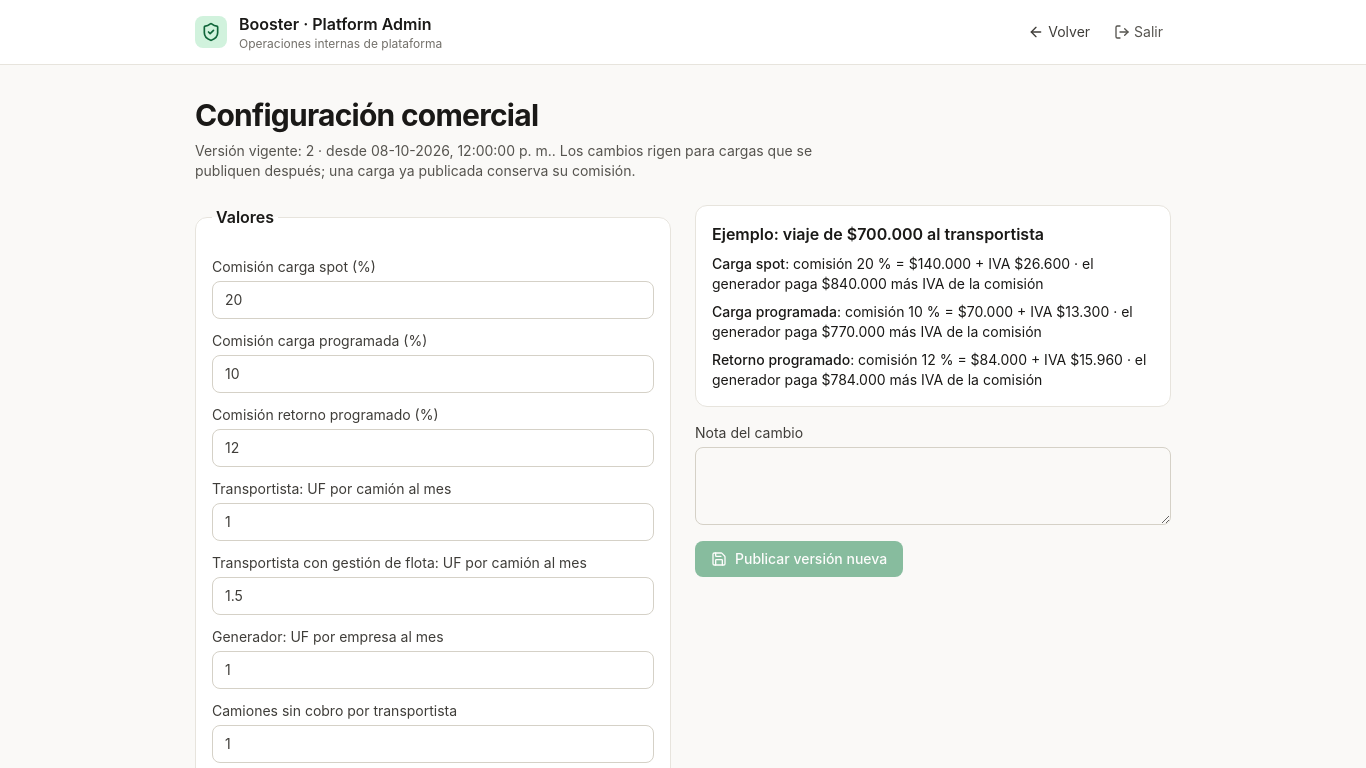
Test: PlatformAdminConfiguracionComercialRoute (ADR-079 §3) › sin nota no deja publicar; con nota publica y recarga
Expected: the button "Publicar versión nueva" is disabled, x1=695 y1=541 x2=903 y2=577
In the text box labelled "Nota del cambio": coordinates (933, 486) x1=695 y1=447 x2=1171 y2=525, type "ajuste de prueba"
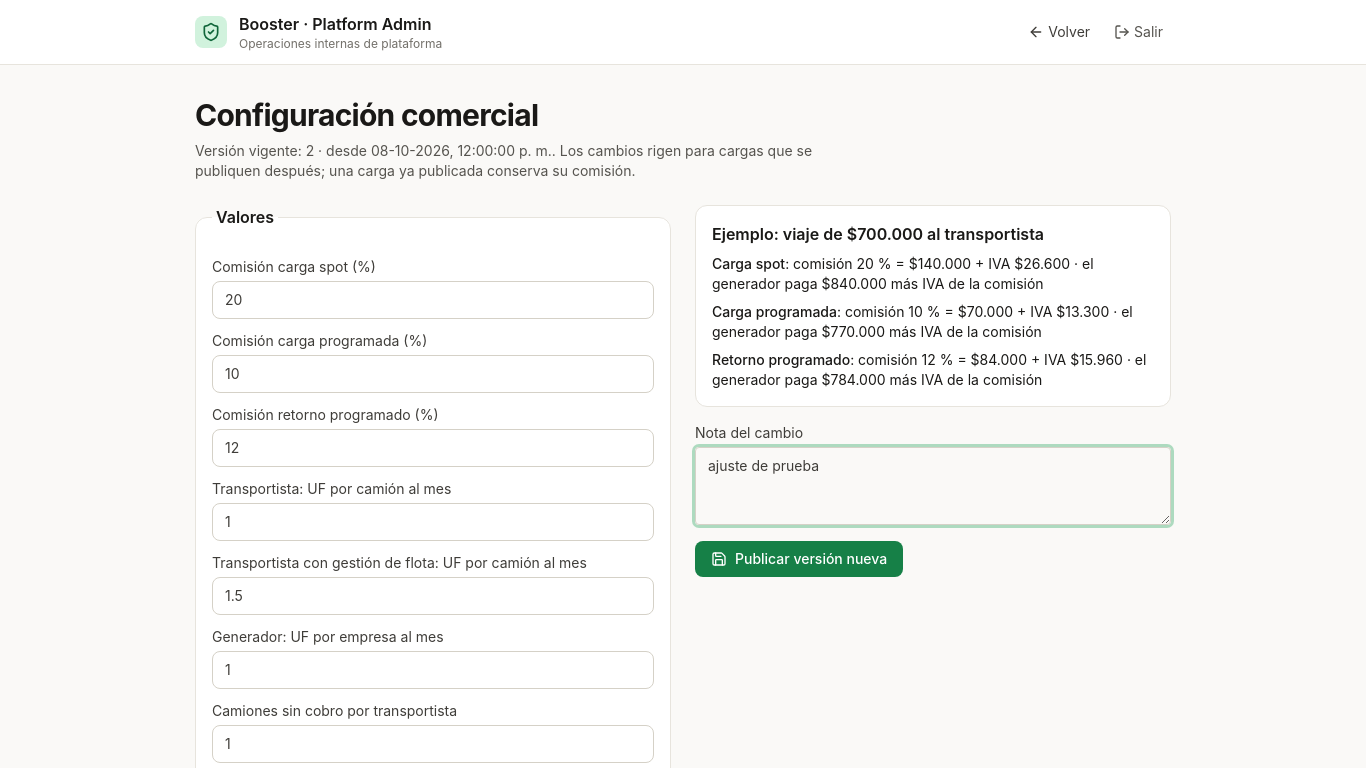
Click the button "Publicar versión nueva": coordinates (799, 559) x1=695 y1=541 x2=903 y2=577
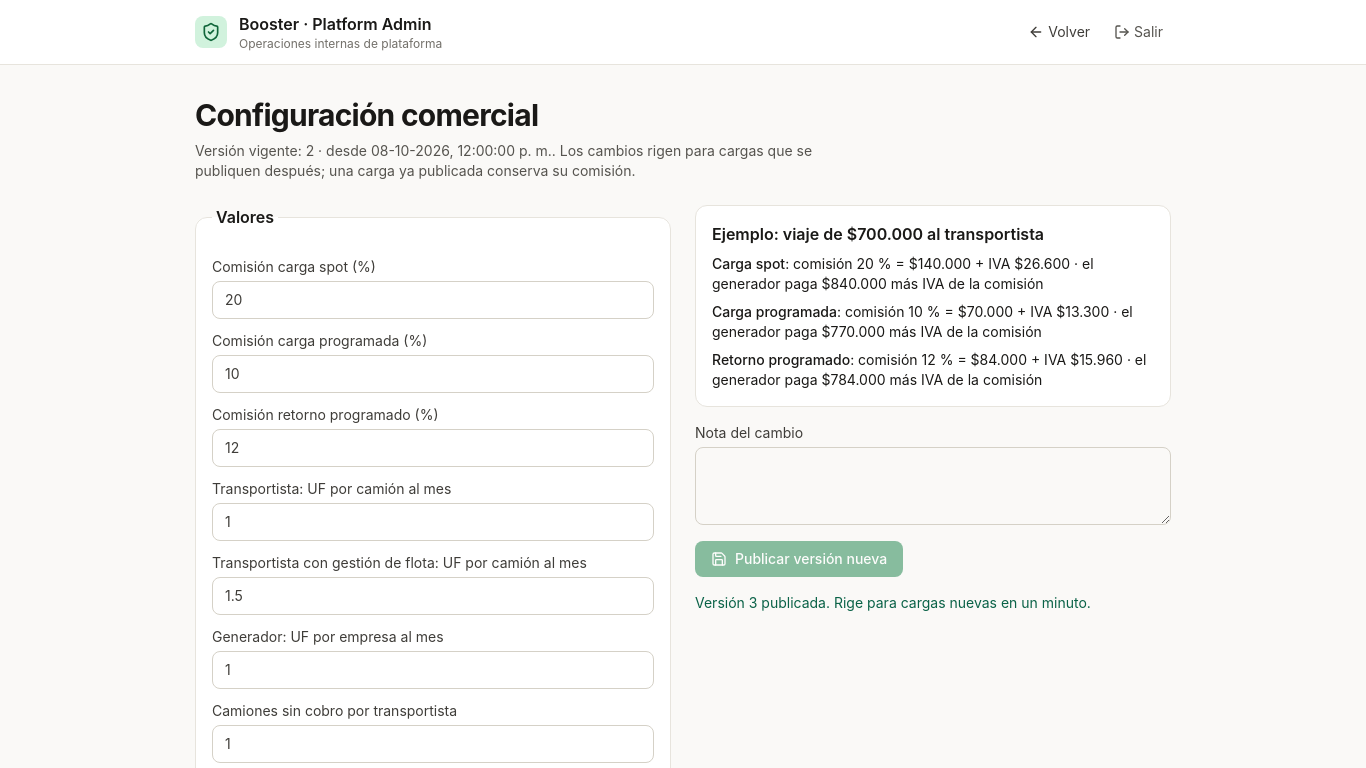
Now the text "Versión 3 publicada. Rige para cargas nuevas en un minuto." is shown, box x1=695 y1=594 x2=1091 y2=611
